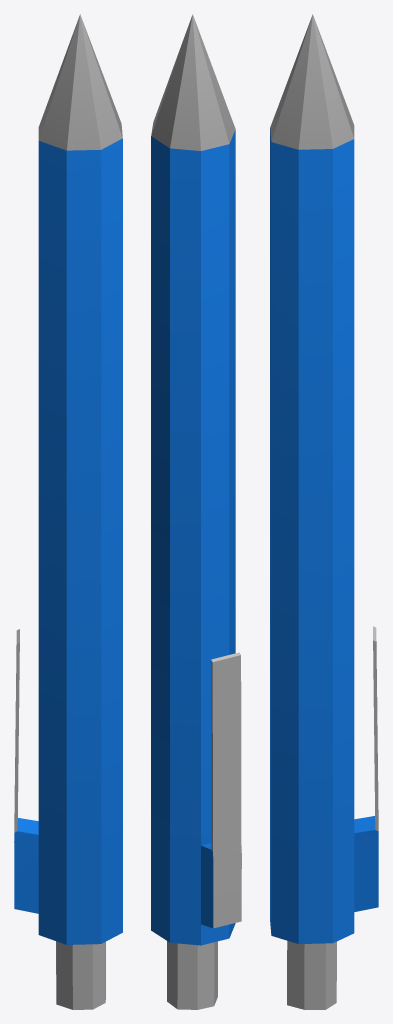
File: Pen.FBX
3 views of the same model, side by side, from view 1: azimuth 90°, elevation 25°; view 2: azimuth 210°, elevation 25°; view 3: azimuth 270°, elevation 25° (orthographic).
Parts seen in each view (by area): view 1: Box001; view 2: Box001; view 3: Box001.
Boxes of the visible parts, box(x1,y1,x2,y2) form: Box001: box(14, 14, 122, 1009); Box001: box(151, 14, 241, 1009); Box001: box(270, 14, 378, 1009).
Size of the model in its own units: 0.5647 by 7.52 by 0.7515.
Materials: 1 (1 with a texture image).
